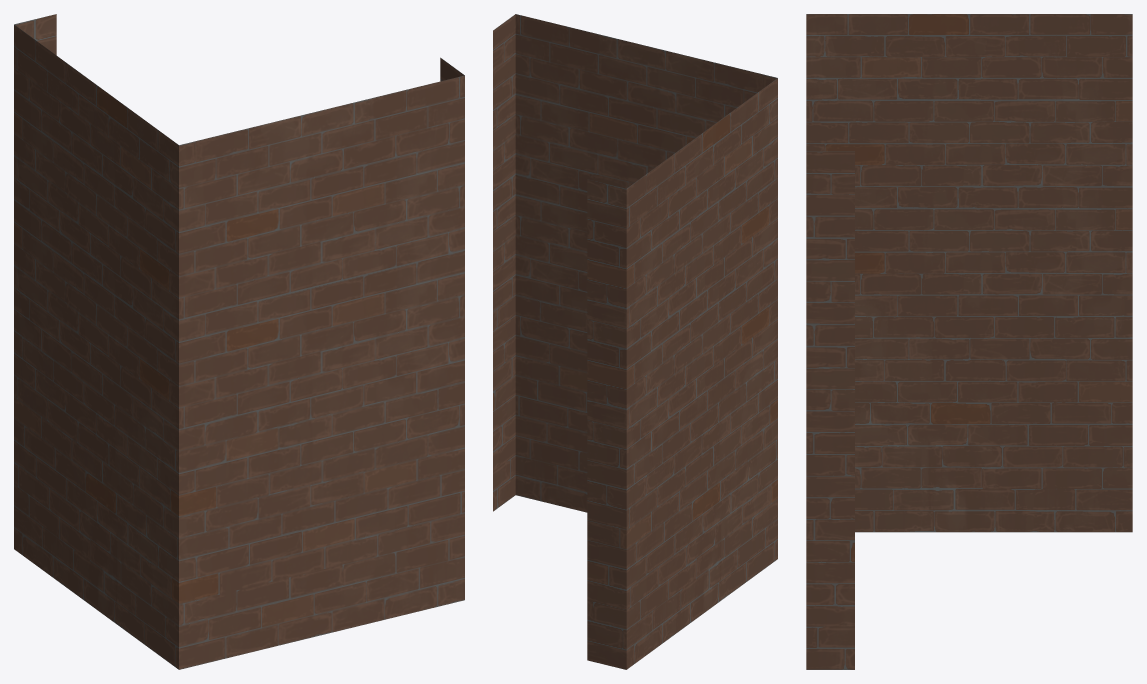
Rendered from Brick_CornerColumn_Center_Half.gltf.
3 renders of one model, left to right at view 1: azimuth 30°, elevation 25°; view 2: azimuth 150°, elevation 25°; view 3: azimuth 270°, elevation 25°, orthographic. The views are drawn at different scales.
Parts seen in each view (by area): view 1: Brick_CornerColumn_Center_Half; view 2: Brick_CornerColumn_Center_Half; view 3: Brick_CornerColumn_Center_Half.
Part boxes in pixels (x1,y1,x2,y2): Brick_CornerColumn_Center_Half: (14, 14, 464, 669); Brick_CornerColumn_Center_Half: (493, 14, 777, 669); Brick_CornerColumn_Center_Half: (806, 14, 1132, 669).
Size of the model in its own units: 1.14 by 2 by 1.14.
Materials: 1 (1 with a texture image).
